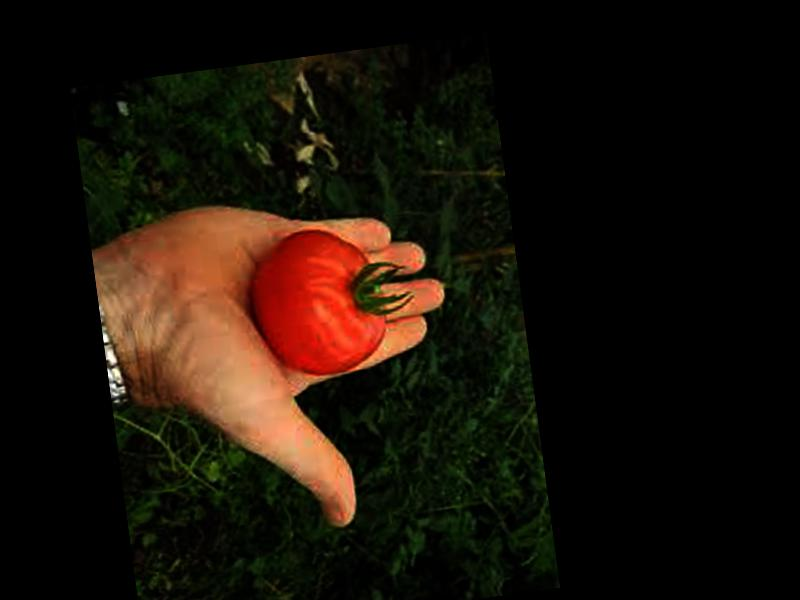Tomato: (244, 220, 390, 384)
